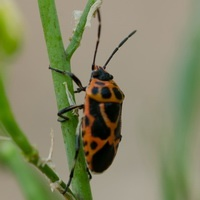insect: (49, 8, 135, 178)
